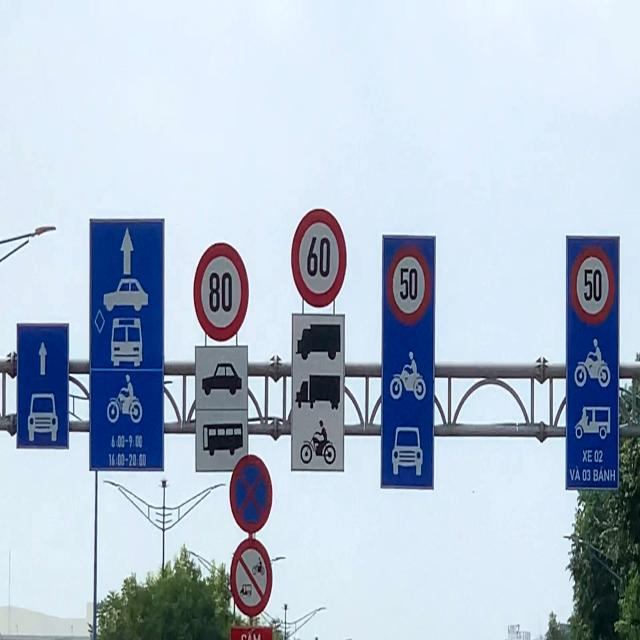P.127: (193, 236, 251, 334), (294, 210, 352, 307), (387, 240, 437, 328), (570, 246, 614, 334)
P.130: (226, 454, 274, 540)
